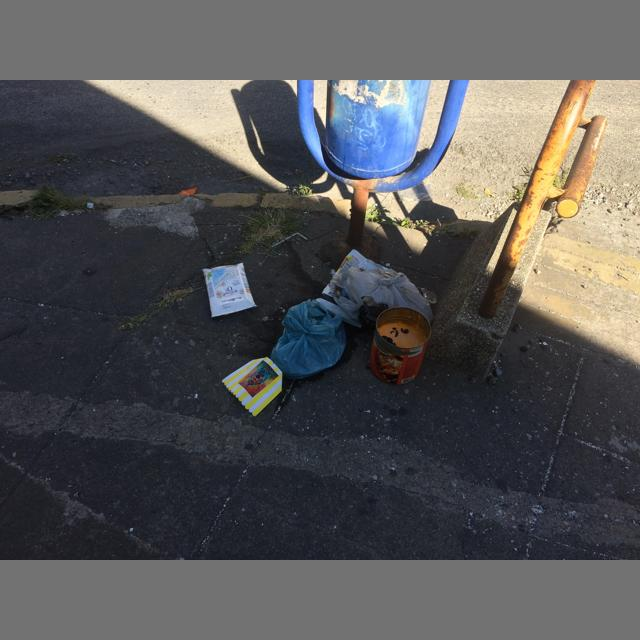litter: (330, 267, 434, 331), (270, 299, 346, 379), (316, 249, 389, 328), (369, 307, 431, 385), (222, 357, 282, 416), (202, 263, 258, 317), (271, 233, 308, 247), (179, 187, 197, 196)
